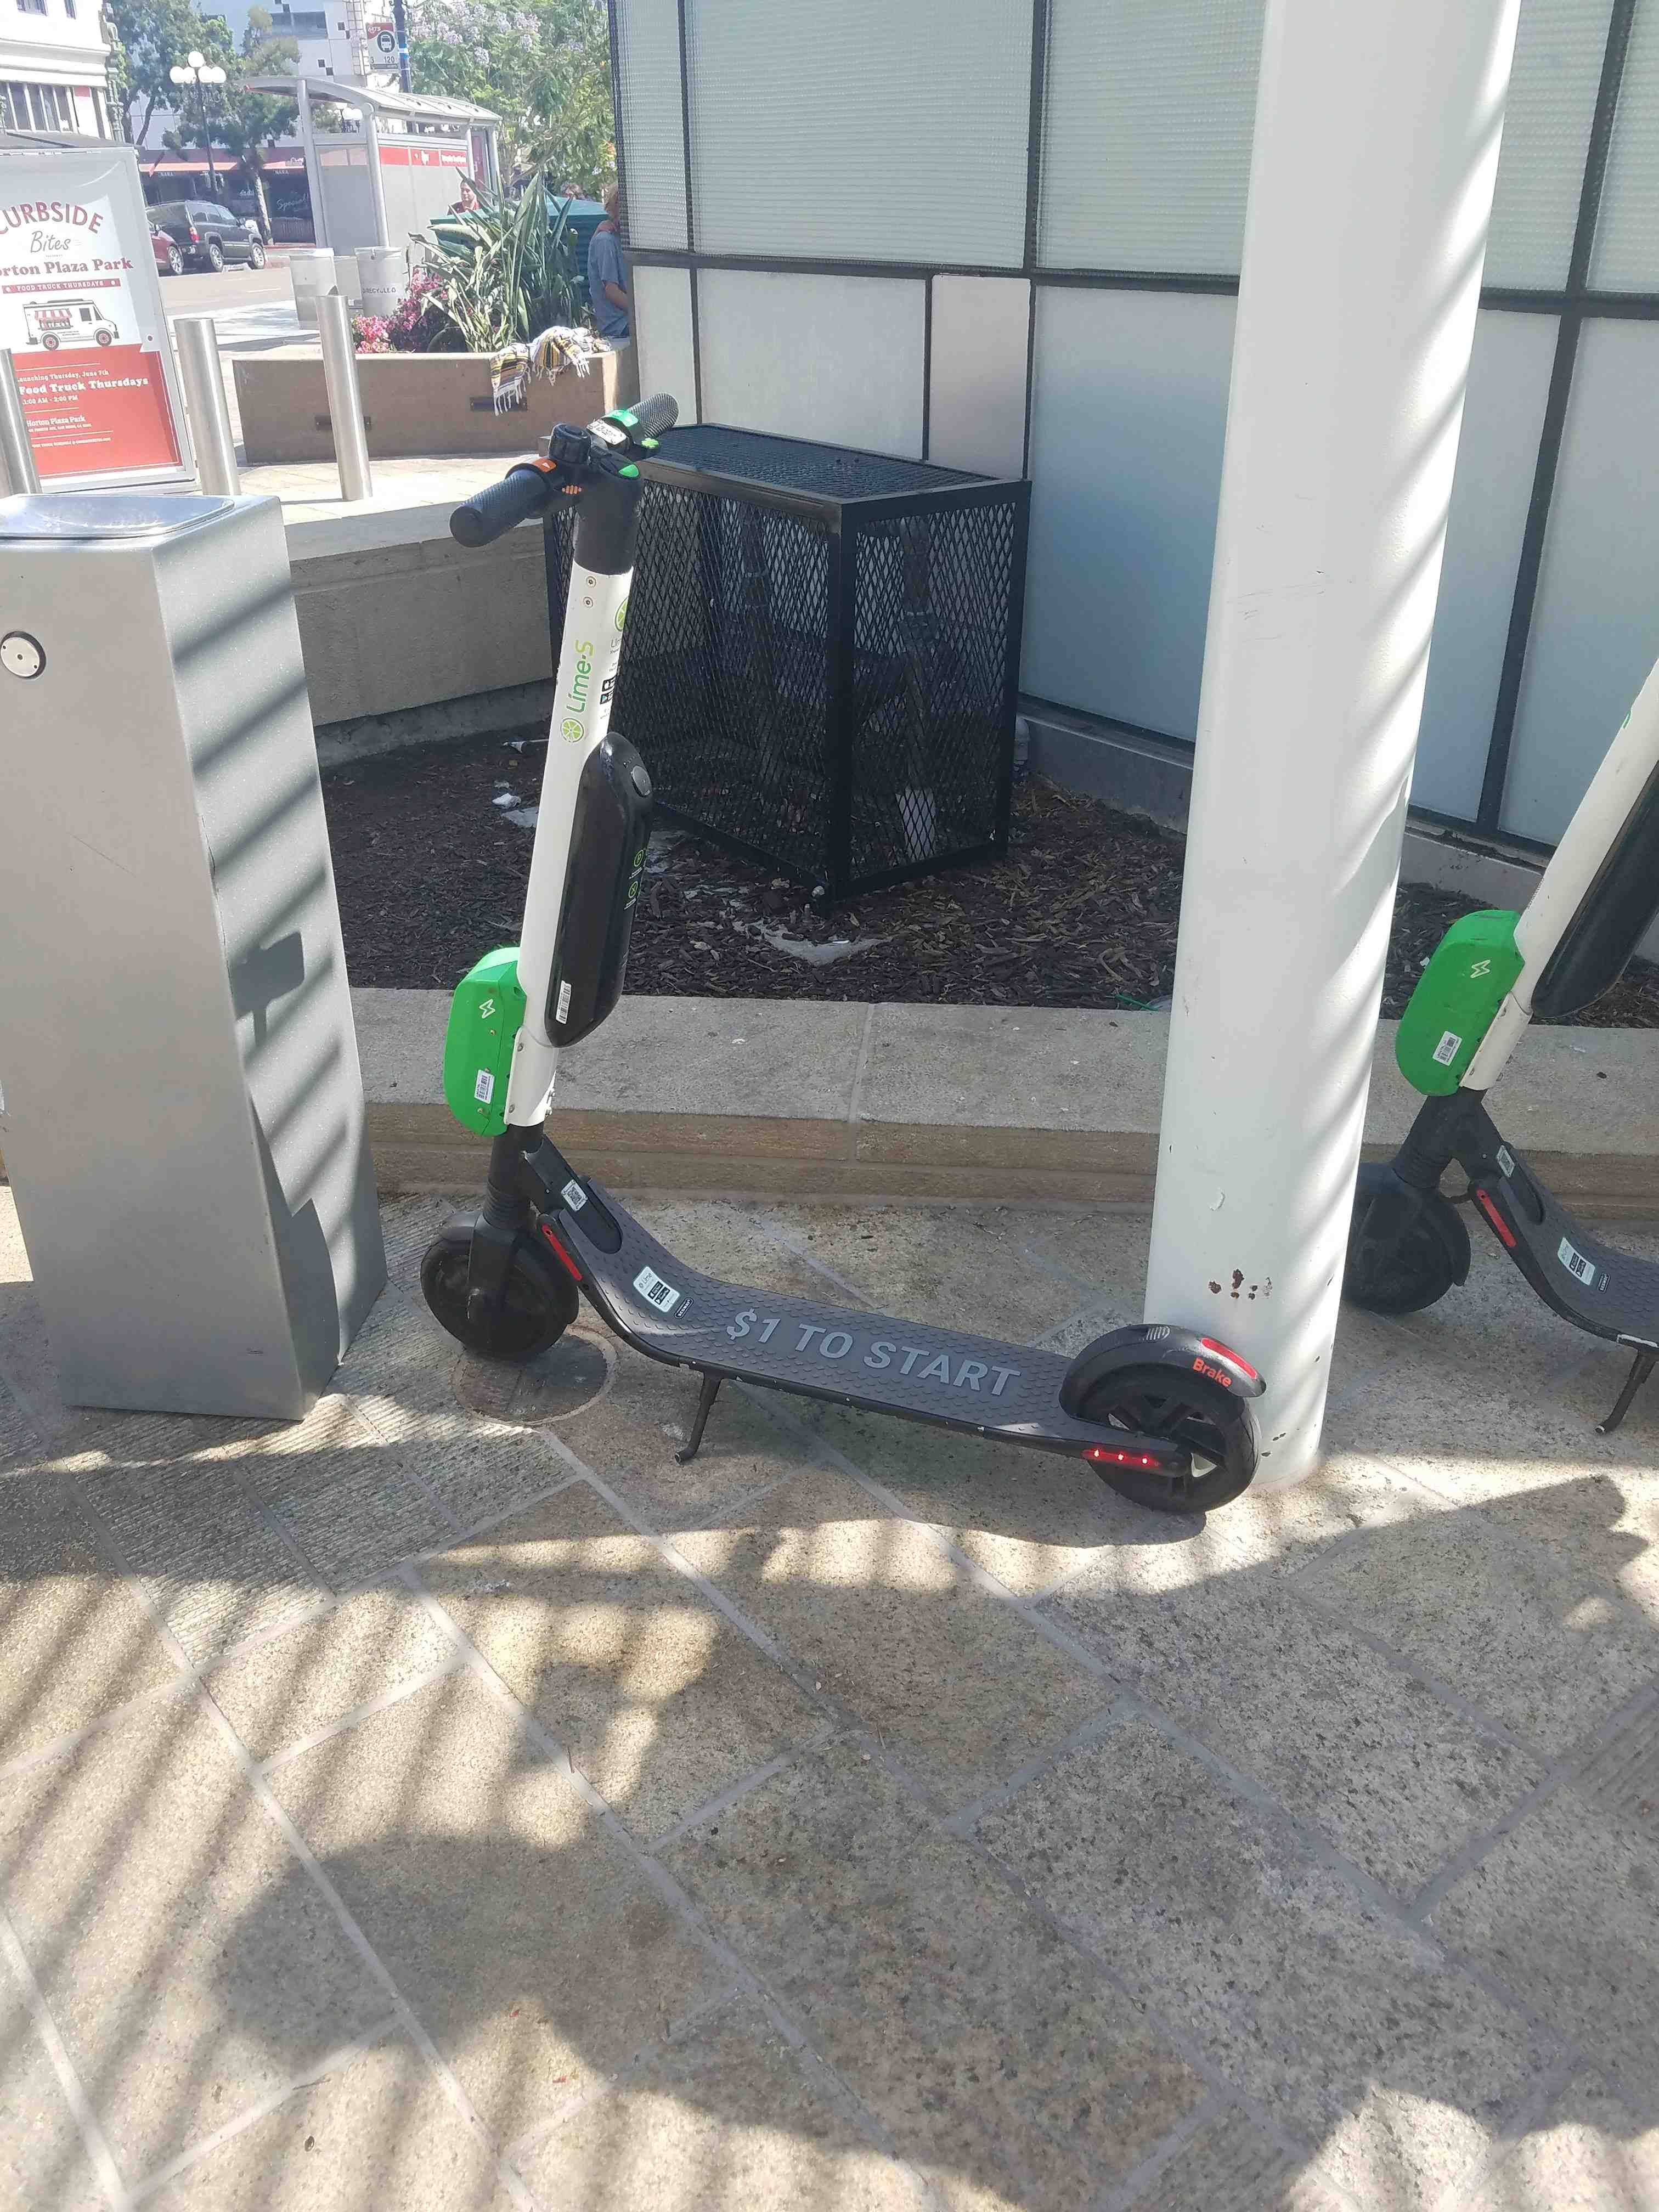scooter: (342, 381, 1281, 1548)
